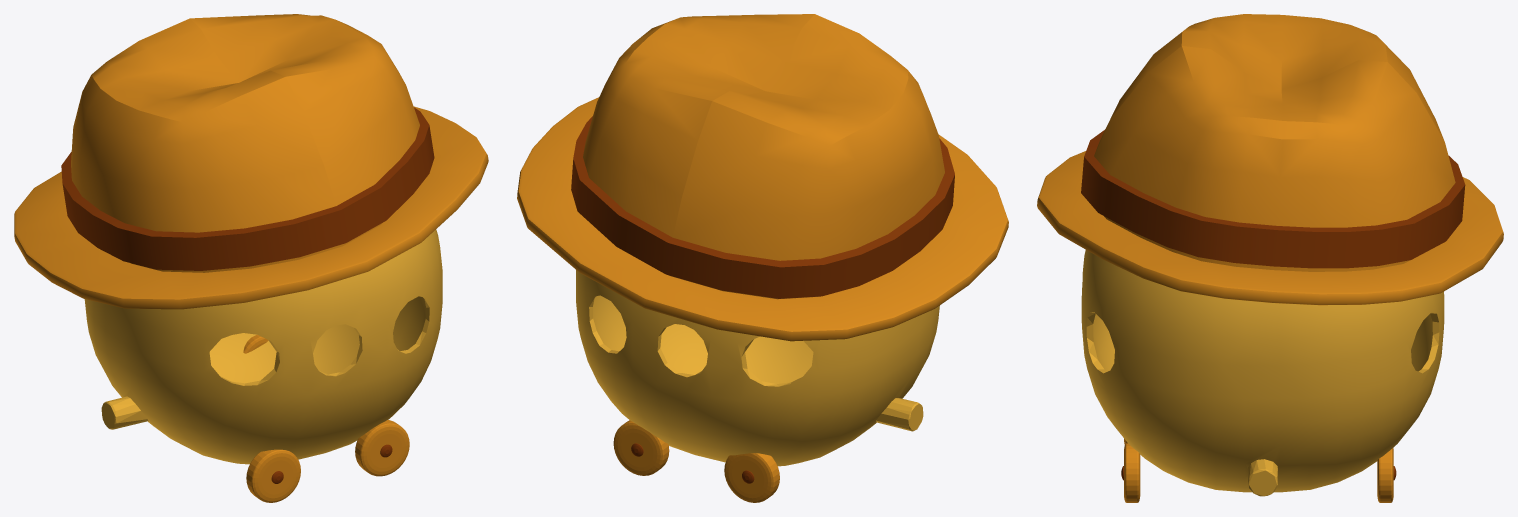
The model's file is wagons_trompette.glb.
3 renders of one model, left to right at view 1: azimuth 30°, elevation 25°; view 2: azimuth 150°, elevation 25°; view 3: azimuth 270°, elevation 25°, orthographic. The views are drawn at different scales.
Parts seen in each view (by area): view 1: chapo, wagon_rond.001, roue.003, roue.002; view 2: chapo, wagon_rond.001, roue.001, roue; view 3: chapo, wagon_rond.001, roue.002, roue.
Boxes of the visible parts, left/top/right/bottom form: chapo: left=14, top=14, right=488, bottom=309; wagon_rond.001: left=84, top=229, right=442, bottom=464; roue.003: left=246, top=449, right=300, bottom=502; roue.002: left=355, top=420, right=409, bottom=476; chapo: left=517, top=14, right=1008, bottom=341; wagon_rond.001: left=576, top=270, right=939, bottom=466; roue.001: left=724, top=453, right=779, bottom=502; roue: left=613, top=420, right=669, bottom=475; chapo: left=1037, top=14, right=1503, bottom=305; wagon_rond.001: left=1081, top=250, right=1444, bottom=496; roue.002: left=1121, top=443, right=1140, bottom=502; roue: left=1377, top=448, right=1396, bottom=502.
Size of the model in its own units: 45.05 by 41.79 by 42.42.
